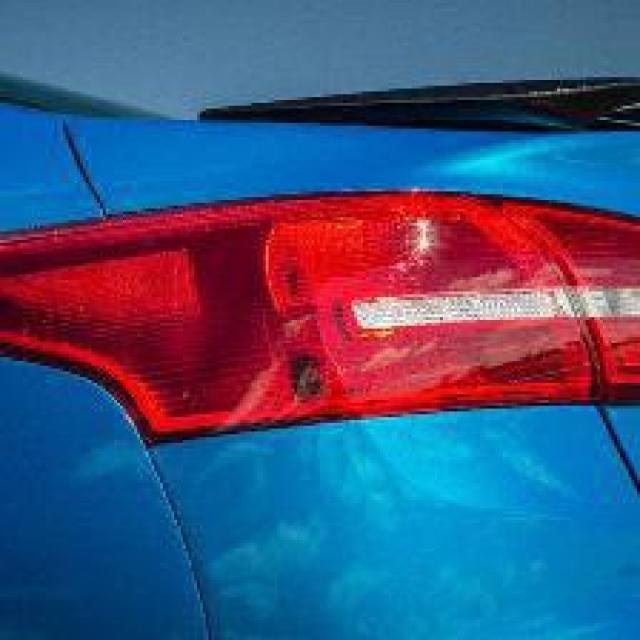damaged: (200, 417, 589, 634)
